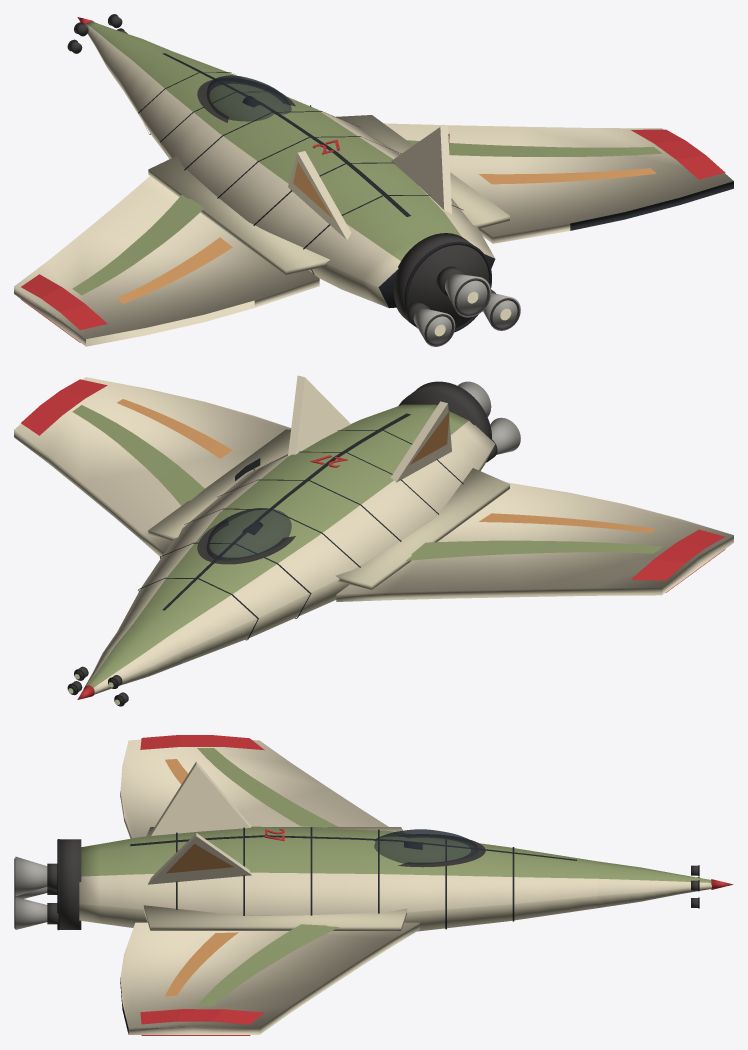
File: Ship_DeltaWing_108179.glb
3 renders of one model, top to bottom at view 1: azimuth 30°, elevation 25°; view 2: azimuth 150°, elevation 25°; view 3: azimuth 270°, elevation 25°, orthographic. The views are drawn at different scales.
Parts seen in each view (by area): view 1: Fuselage_MainWedgeBody, Wing_Left_DeltaAerofoil, Wing_Right_DeltaAerofoil, WingRoot_Left_BlendedShoulder, EngineBlock_AftIntegratedHousing, CanopyGlass_LowInsetDome, TailFin_Right_CantedStabilizer, PaintWingChevron_Left_PrimarySweep, WingRoot_Right_BlendedShoulder, PaintWingChevron_Right_PrimarySweep, Nose_ForwardNeedle, WingTipTrim_Left_HardCutPanel_Top (+11 smaller); view 2: Fuselage_MainWedgeBody, Wing_Left_DeltaAerofoil, Wing_Right_DeltaAerofoil, WingRoot_Left_BlendedShoulder, Nose_ForwardNeedle, CanopyGlass_LowInsetDome, PaintWingChevron_Left_PrimarySweep, PaintWingChevron_Right_PrimarySweep, WingRoot_Right_BlendedShoulder, TailFin_Right_CantedStabilizer, EngineBlock_AftIntegratedHousing, WingTipTrim_Left_HardCutPanel_Top (+8 smaller); view 3: Fuselage_MainWedgeBody, Wing_Right_DeltaAerofoil, Wing_Left_DeltaAerofoil, WingRoot_Right_BlendedShoulder, TailFin_Left_CantedStabilizer, Nose_ForwardNeedle, CanopyGlass_LowInsetDome, PaintWingChevron_Right_PrimarySweep, PaintWingChevron_Left_PrimarySweep, EngineBlock_AftIntegratedHousing, TailFin_Right_CantedStabilizer, WingTipTrim_Right_HardCutPanel_Top (+7 smaller).
Part boxes in pixels (left/top/right/bottom): Fuselage_MainWedgeBody: left=117, top=50, right=495, bottom=308; Wing_Left_DeltaAerofoil: left=14, top=176, right=319, bottom=346; Wing_Right_DeltaAerofoil: left=384, top=123, right=733, bottom=243; WingRoot_Left_BlendedShoulder: left=148, top=155, right=329, bottom=275; EngineBlock_AftIntegratedHousing: left=393, top=233, right=488, bottom=328; CanopyGlass_LowInsetDome: left=206, top=75, right=291, bottom=121; TailFin_Right_CantedStabilizer: left=391, top=125, right=451, bottom=214; PaintWingChevron_Left_PrimarySweep: left=72, top=195, right=204, bottom=295; WingRoot_Right_BlendedShoulder: left=336, top=115, right=509, bottom=228; PaintWingChevron_Right_PrimarySweep: left=407, top=140, right=662, bottom=156; Nose_ForwardNeedle: left=85, top=21, right=170, bottom=89; WingTipTrim_Left_HardCutPanel_Top: left=21, top=274, right=107, bottom=330; Fuselage_MainWedgeBody: left=117, top=404, right=494, bottom=663; Wing_Left_DeltaAerofoil: left=336, top=482, right=733, bottom=601; Wing_Right_DeltaAerofoil: left=14, top=377, right=291, bottom=557; WingRoot_Left_BlendedShoulder: left=335, top=468, right=509, bottom=589; Nose_ForwardNeedle: left=83, top=624, right=186, bottom=694; CanopyGlass_LowInsetDome: left=206, top=508, right=291, bottom=560; PaintWingChevron_Left_PrimarySweep: left=406, top=540, right=662, bottom=560; PaintWingChevron_Right_PrimarySweep: left=72, top=405, right=204, bottom=505; WingRoot_Right_BlendedShoulder: left=148, top=429, right=290, bottom=541; TailFin_Right_CantedStabilizer: left=288, top=375, right=350, bottom=456; EngineBlock_AftIntegratedHousing: left=398, top=382, right=491, bottom=439; WingTipTrim_Left_HardCutPanel_Top: left=631, top=529, right=725, bottom=580; Fuselage_MainWedgeBody: left=79, top=826, right=597, bottom=931; Wing_Right_DeltaAerofoil: left=120, top=922, right=419, bottom=1034; Wing_Left_DeltaAerofoil: left=120, top=739, right=388, bottom=838; WingRoot_Right_BlendedShoulder: left=143, top=905, right=407, bottom=930; TailFin_Left_CantedStabilizer: left=149, top=761, right=251, bottom=836; Nose_ForwardNeedle: left=597, top=861, right=711, bottom=907; CanopyGlass_LowInsetDome: left=374, top=829, right=478, bottom=864; PaintWingChevron_Right_PrimarySweep: left=197, top=924, right=339, bottom=1005; PaintWingChevron_Left_PrimarySweep: left=197, top=748, right=338, bottom=827; EngineBlock_AftIntegratedHousing: left=59, top=839, right=81, bottom=929; TailFin_Right_CantedStabilizer: left=148, top=833, right=251, bottom=884; WingTipTrim_Right_HardCutPanel_Top: left=140, top=1009, right=264, bottom=1024.
Bounding box in the file's own units: 6.86 × 1.46 × 7.26.
